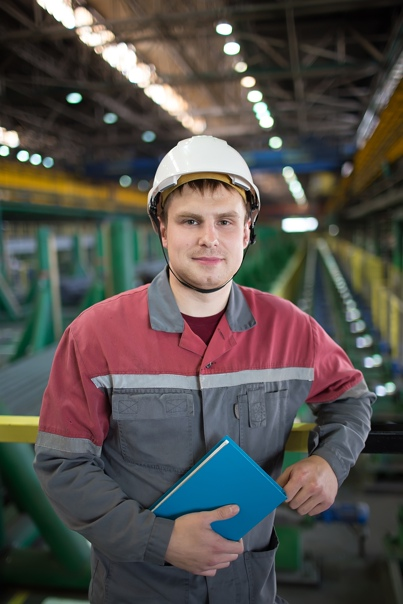person: (35, 135, 374, 604)
